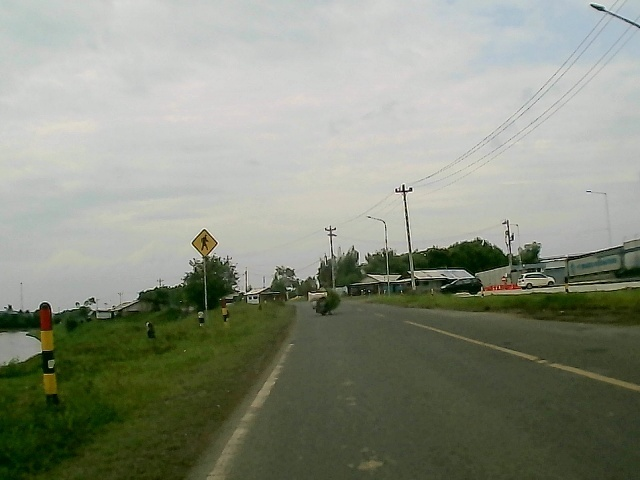Peringatan orang menyeberang: (189, 227, 220, 257)
